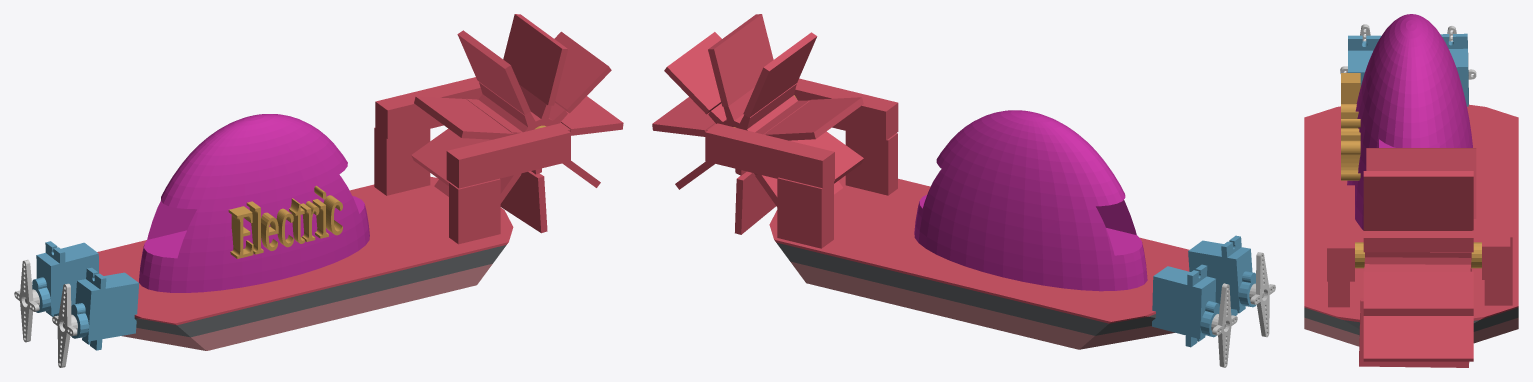
The model's file is ship.glb.
3 views of the same model, side by side, from view 1: azimuth 30°, elevation 25°; view 2: azimuth 150°, elevation 25°; view 3: azimuth 270°, elevation 25° (orthographic). The views are drawn at different scales.
Parts seen in each view (by area): view 1: Mesh_Mesh_head_geo.001_lambert2SG.001; view 2: Mesh_Mesh_head_geo.001_lambert2SG.001; view 3: Mesh_Mesh_head_geo.001_lambert2SG.001.
Part boxes in pixels (x1,y1,x2,y2): Mesh_Mesh_head_geo.001_lambert2SG.001: [14, 14, 623, 367]; Mesh_Mesh_head_geo.001_lambert2SG.001: [652, 14, 1275, 367]; Mesh_Mesh_head_geo.001_lambert2SG.001: [1304, 14, 1518, 367].
Bounding box in the file's own units: 267 × 90.62 × 76.
